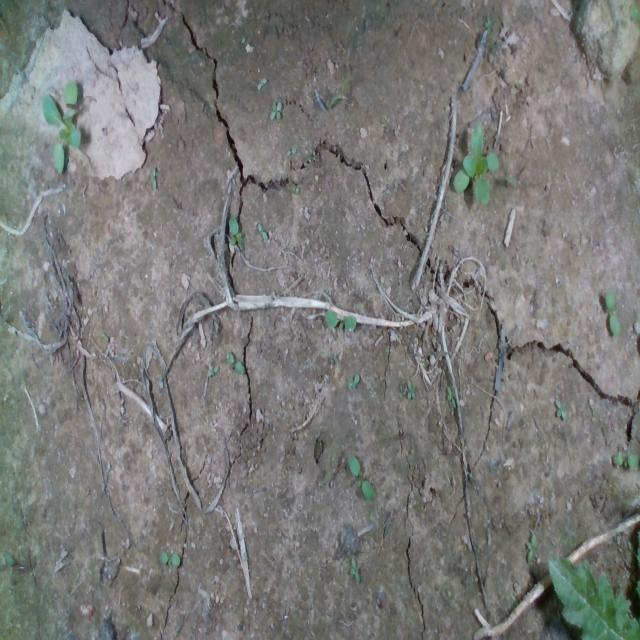weed: (345, 454, 379, 509), (223, 212, 253, 266), (601, 284, 623, 346), (224, 345, 248, 387), (615, 440, 635, 486), (553, 390, 575, 427), (324, 309, 356, 331), (158, 545, 184, 572), (347, 551, 363, 593), (526, 530, 538, 572), (346, 366, 360, 396), (404, 372, 414, 414), (285, 140, 297, 164), (270, 97, 280, 124)
